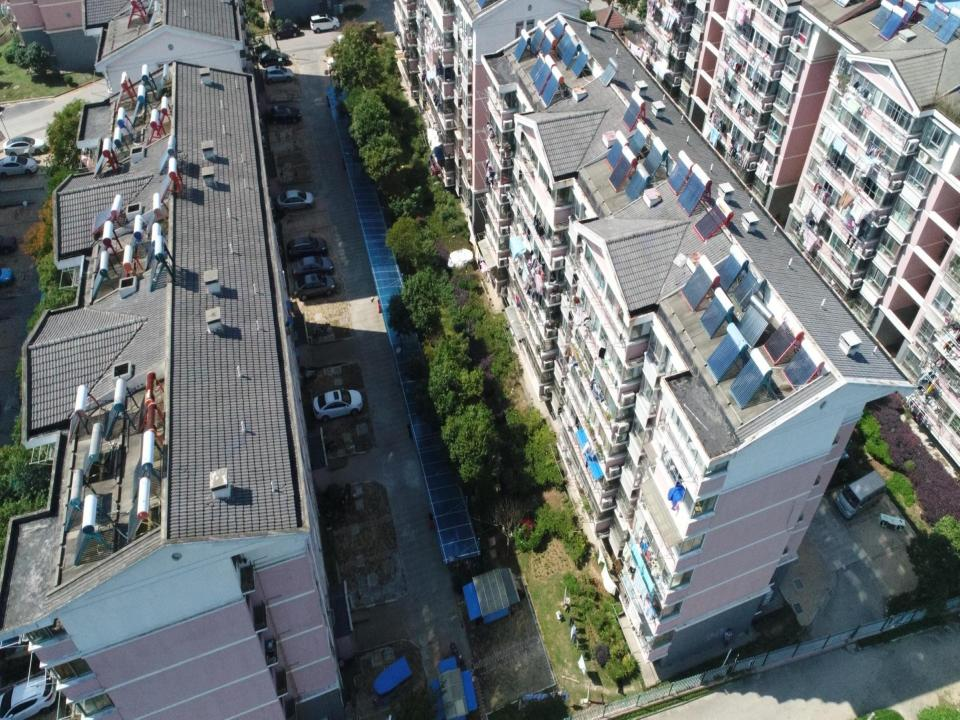car: (0, 672, 57, 720), (312, 387, 364, 425), (293, 272, 336, 301), (286, 235, 328, 262), (276, 188, 315, 215), (290, 255, 335, 278), (3, 134, 46, 156), (0, 155, 38, 179), (264, 104, 302, 126), (309, 12, 340, 34), (264, 64, 294, 86), (258, 48, 289, 67), (273, 22, 301, 41), (327, 55, 354, 71), (1, 234, 17, 256), (0, 266, 14, 286)
van: (835, 470, 887, 520)
